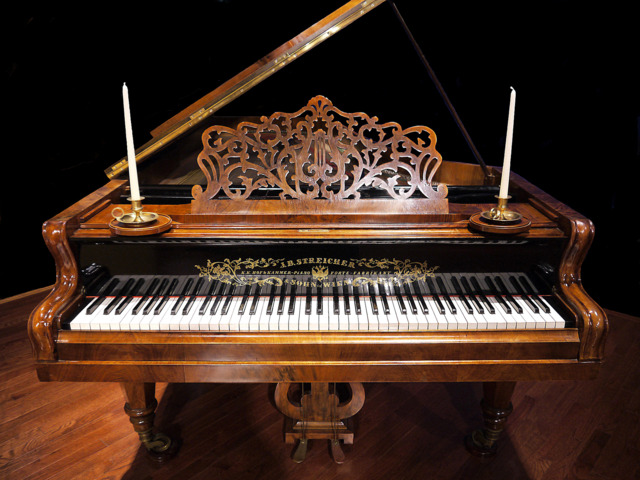Piano: (25, 5, 614, 472)
